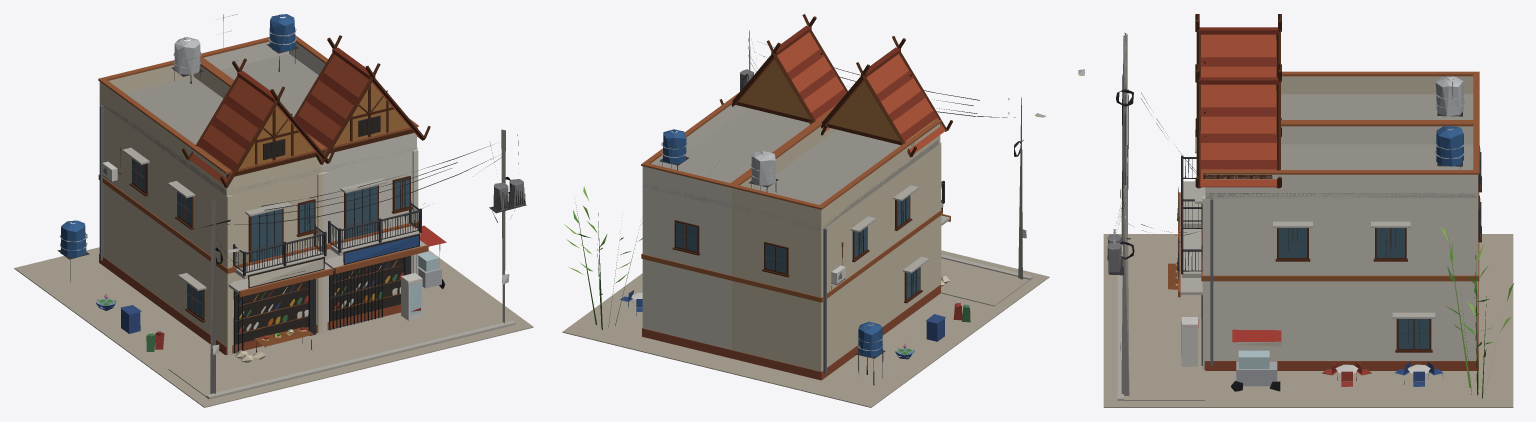
File: shop_2.glb
3 views of the same model, side by side, from view 1: azimuth 30°, elevation 25°; view 2: azimuth 150°, elevation 25°; view 3: azimuth 270°, elevation 25° (orthographic). The views are drawn at different scales.
Visible parts, largest first — view 1: body, windows; view 2: body, windows; view 3: body, windows.
Boxes of the visible parts, x1,y1,x2,y2 form: body: [14, 14, 533, 407]; windows: [132, 115, 409, 344]; body: [562, 14, 1049, 407]; windows: [676, 116, 1043, 298]; body: [1078, 14, 1513, 407]; windows: [1079, 75, 1480, 348].
Bounding box in the file's own units: 16.72 × 11.99 × 17.2.
